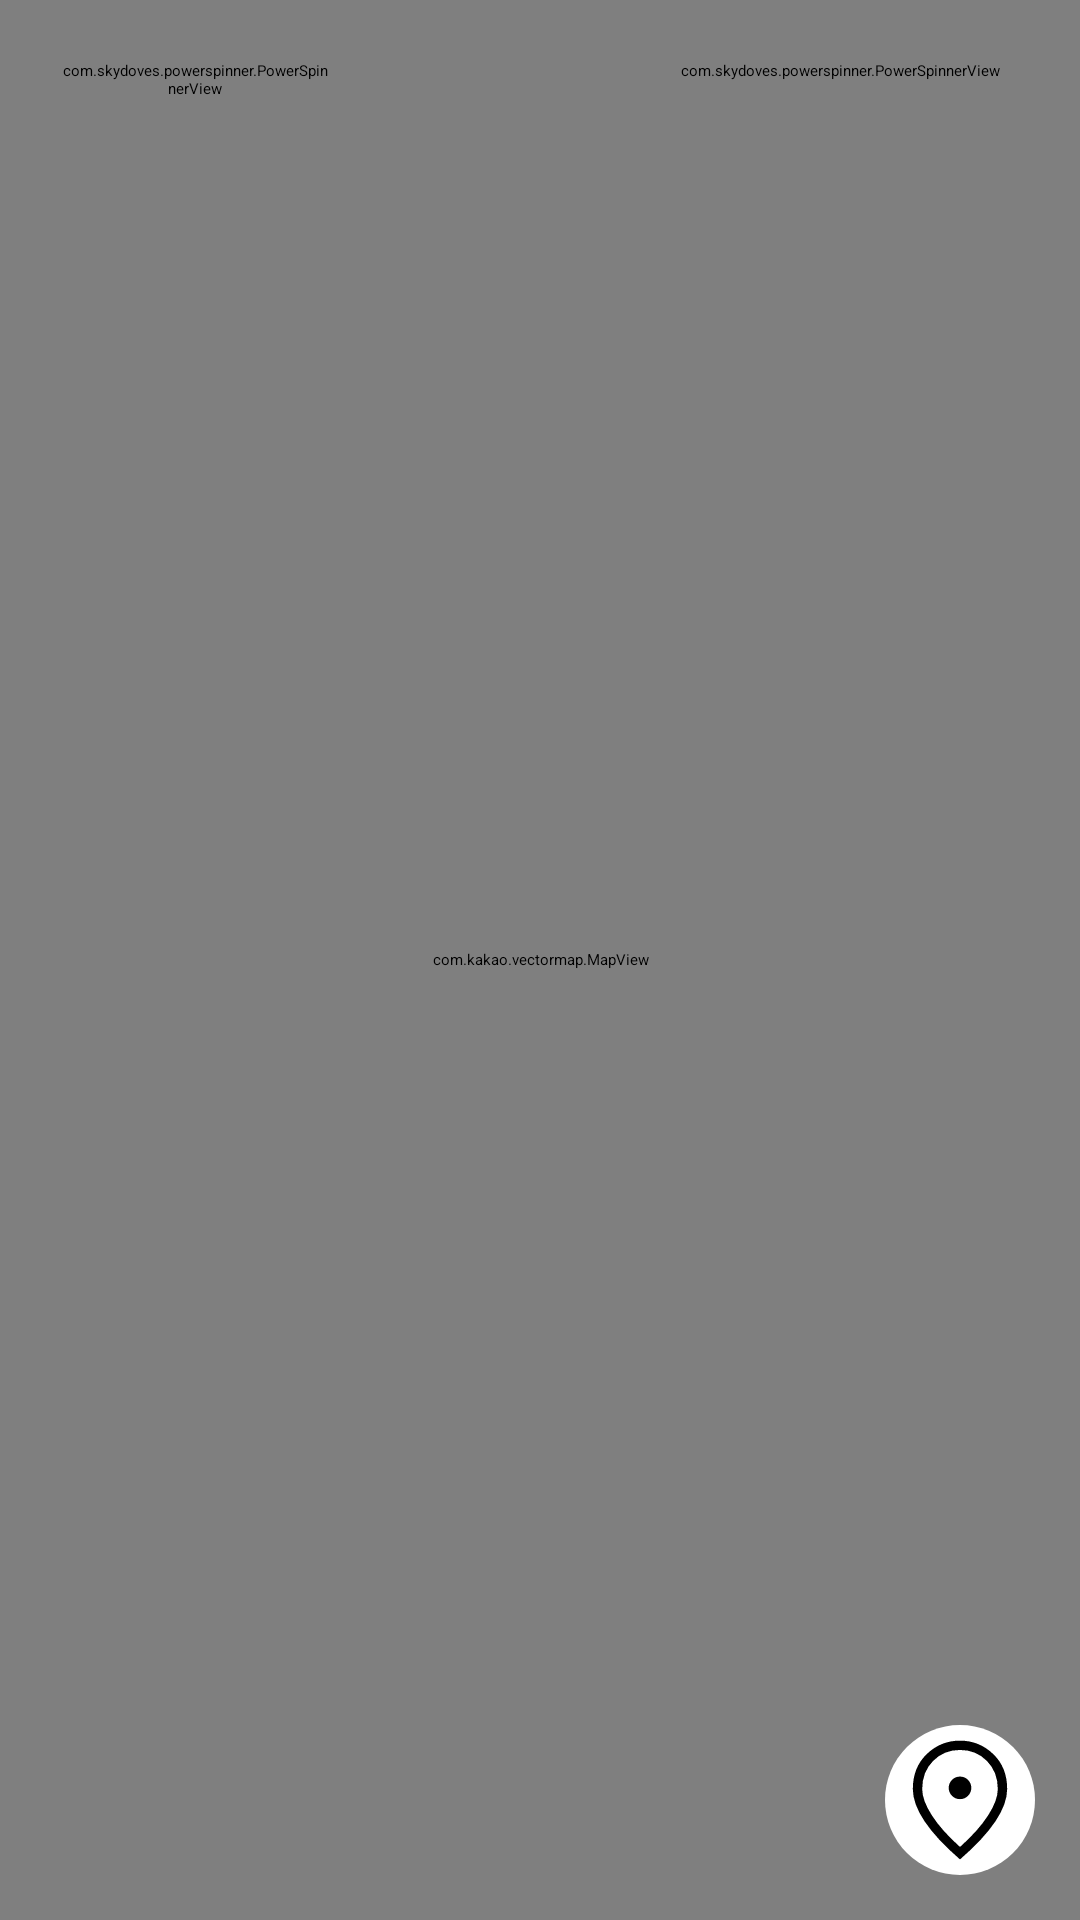

Icons on this 1080 x 1920 Android screen, each with the point to tap as [x,y]:
location on: [960,1800]
